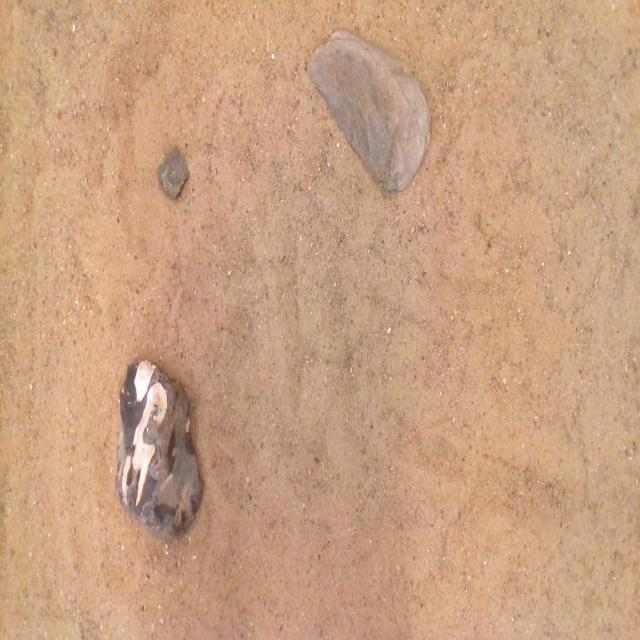rock: (308, 31, 429, 190), (116, 360, 203, 535), (158, 148, 188, 199)
